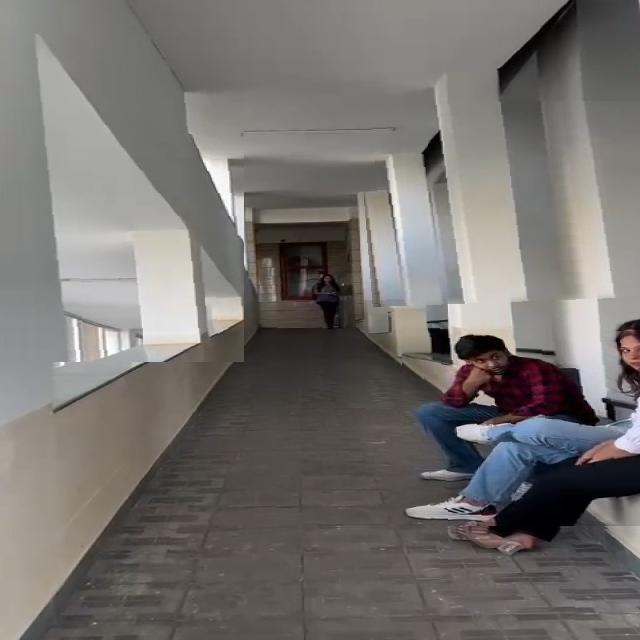floor: (102, 525, 640, 640), (254, 319, 402, 524)
moving_object: (422, 325, 640, 526)
wall: (0, 0, 244, 362), (356, 101, 640, 307)
